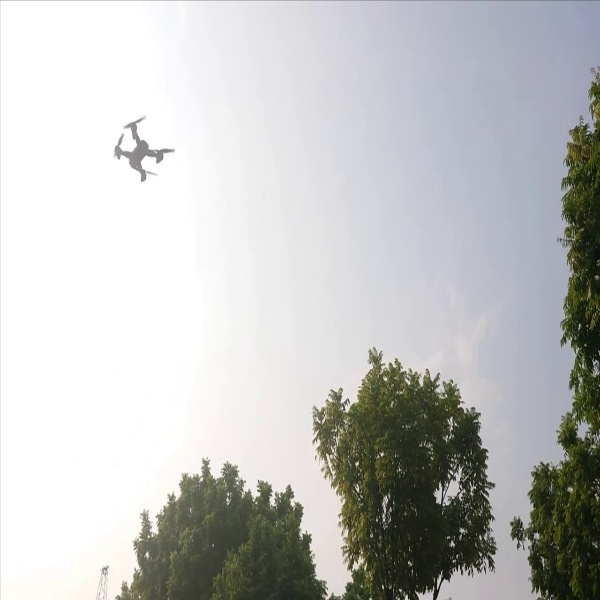drone: (103, 108, 180, 185)
